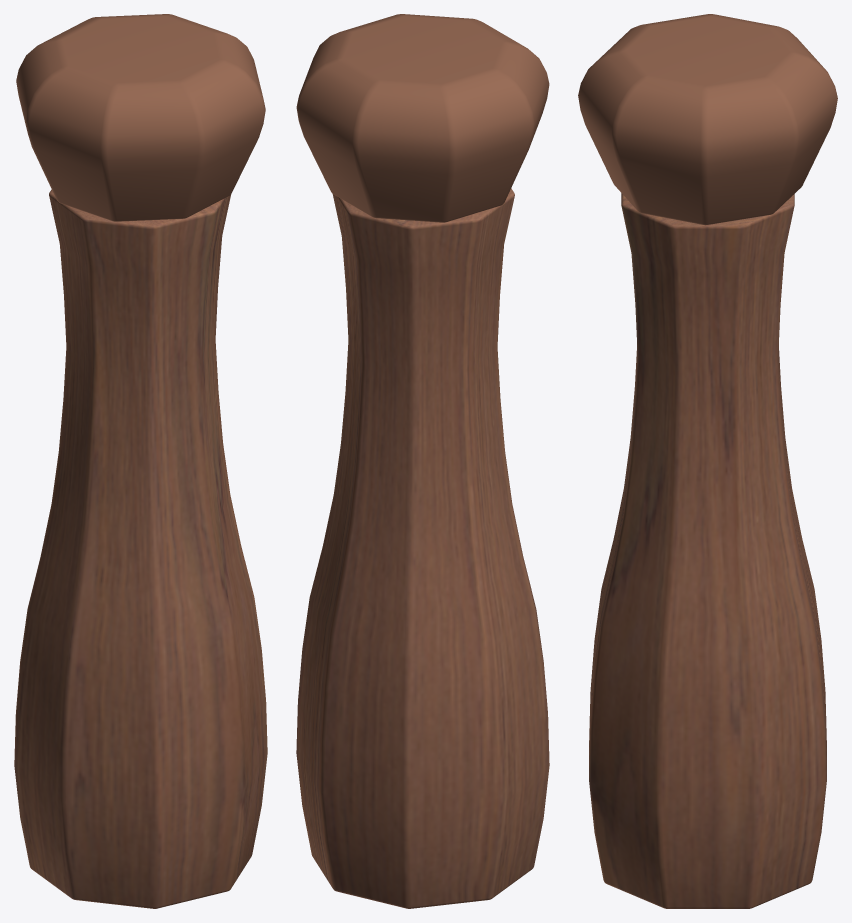
Rendered from salt.fbx.
3 renders of one model, left to right at view 1: azimuth 30°, elevation 25°; view 2: azimuth 150°, elevation 25°; view 3: azimuth 270°, elevation 25°, orthographic.
Parts seen in each view (by area): view 1: M_S&PmB; view 2: M_S&PmB; view 3: M_S&PmB.
Part boxes in pixels (x1,y1,x2,y2): M_S&PmB: (14, 14, 267, 908); M_S&PmB: (296, 14, 549, 908); M_S&PmB: (578, 14, 837, 908).
Size of the model in its own units: 22.13 by 76.57 by 22.13.
Materials: 1 (1 with a texture image).
